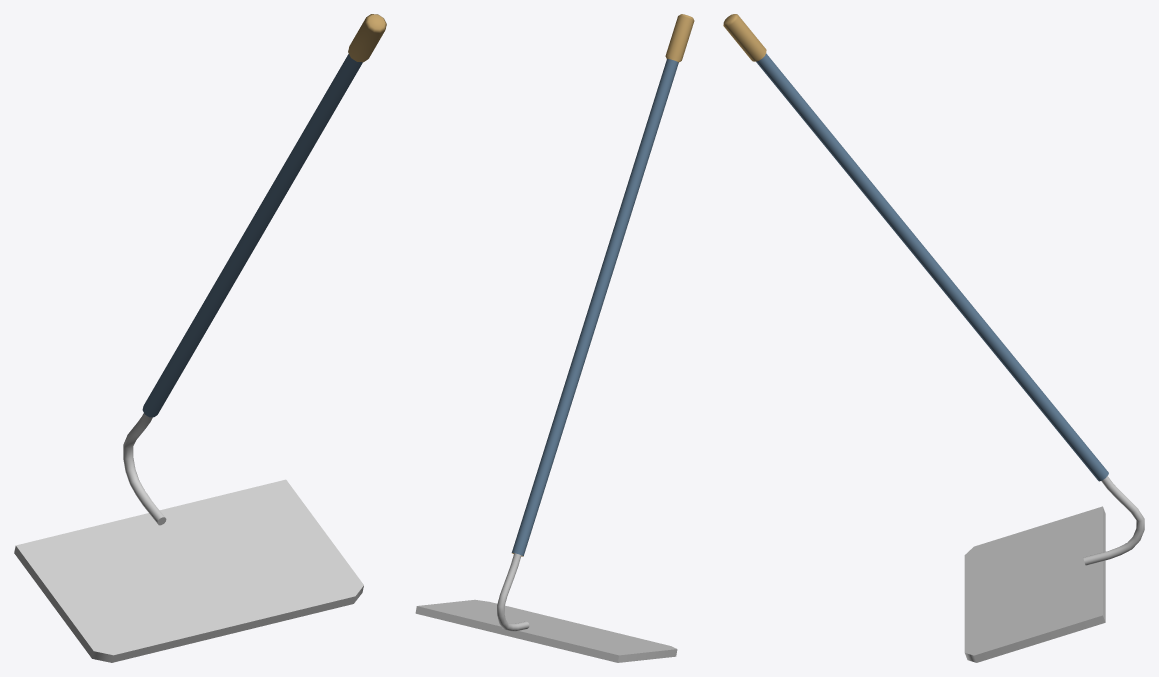
File: mesh_hoe_static.fbx
The picture shows the model from 3 angles, left to right: view 1: azimuth 30°, elevation 25°; view 2: azimuth 150°, elevation 25°; view 3: azimuth 270°, elevation 25°; orthographic projection. The views are drawn at different scales.
Visible parts, largest first — view 1: mesh_hoe_static; view 2: mesh_hoe_static; view 3: mesh_hoe_static.
Boxes of the visible parts, x1,y1,x2,y2 form: mesh_hoe_static: (14,14,386,662); mesh_hoe_static: (415,14,694,662); mesh_hoe_static: (723,14,1144,662).
Bounding box in the file's own units: 73.15 × 187 × 119.
